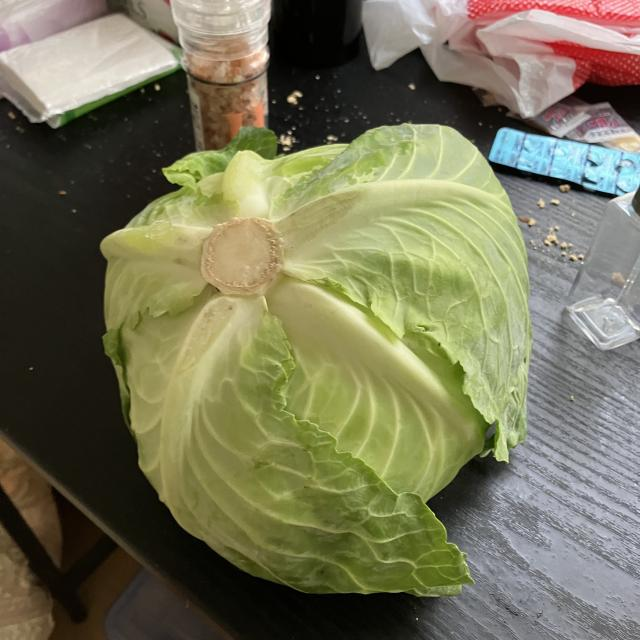cabbage: (94, 123, 534, 603)
